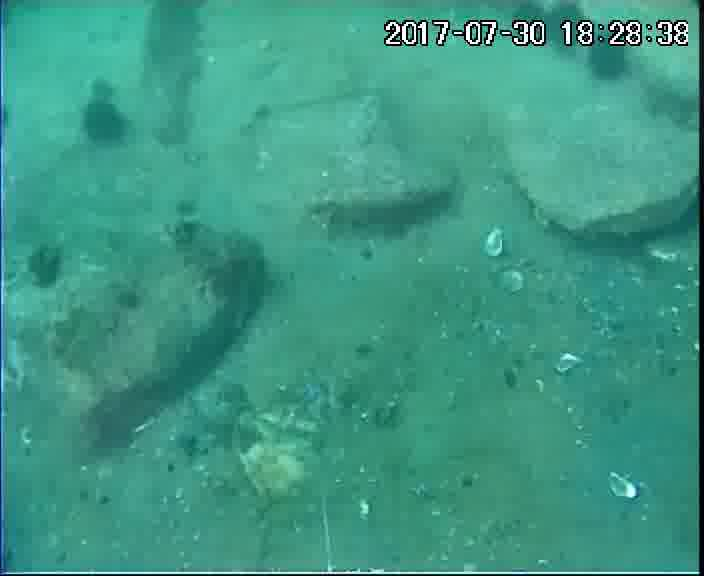echinus: (81, 94, 131, 148), (587, 34, 629, 84)
